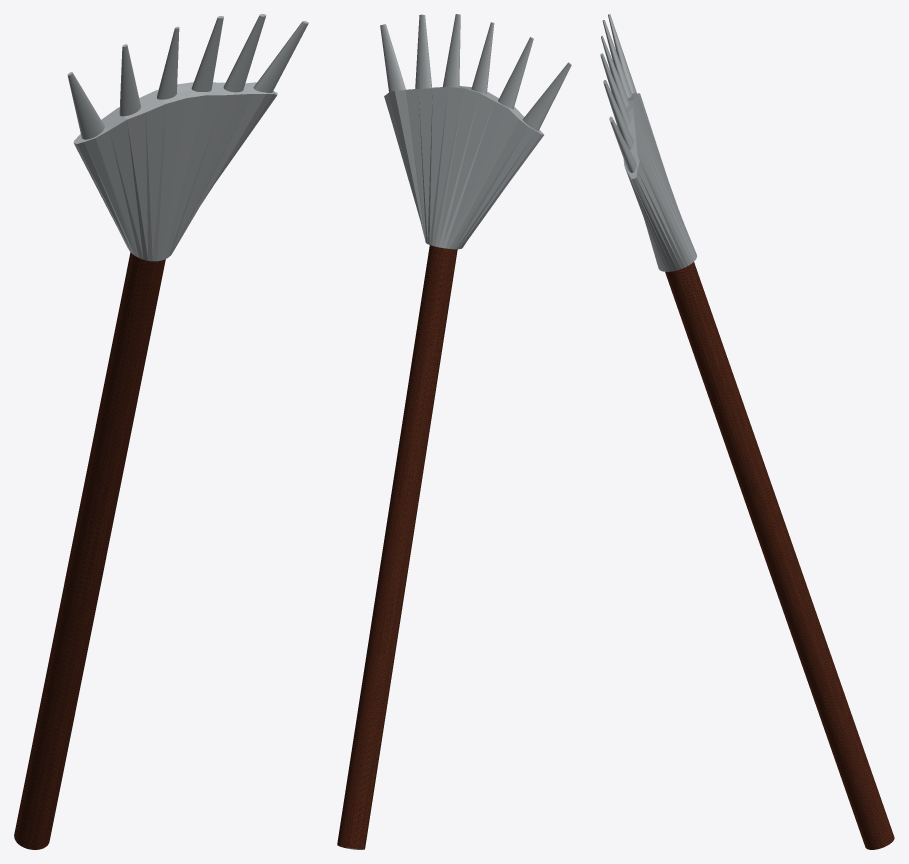
Rendered from EscobaMedieval.obj.
3 views of the same model, side by side, from view 1: azimuth 30°, elevation 25°; view 2: azimuth 150°, elevation 25°; view 3: azimuth 270°, elevation 25° (orthographic). The views are drawn at different scales.
Visible parts, largest first — view 1: Cilindro_Cilindro.004; view 2: Cilindro_Cilindro.004; view 3: Cilindro_Cilindro.004.
Part boxes in pixels (<box>): Cilindro_Cilindro.004: <box>14,14,308,849</box>; Cilindro_Cilindro.004: <box>337,14,571,849</box>; Cilindro_Cilindro.004: <box>600,14,894,849</box>.
Size of the model in its own units: 5.62 by 20.81 by 6.91.
Materials: 1 (1 with a texture image).
